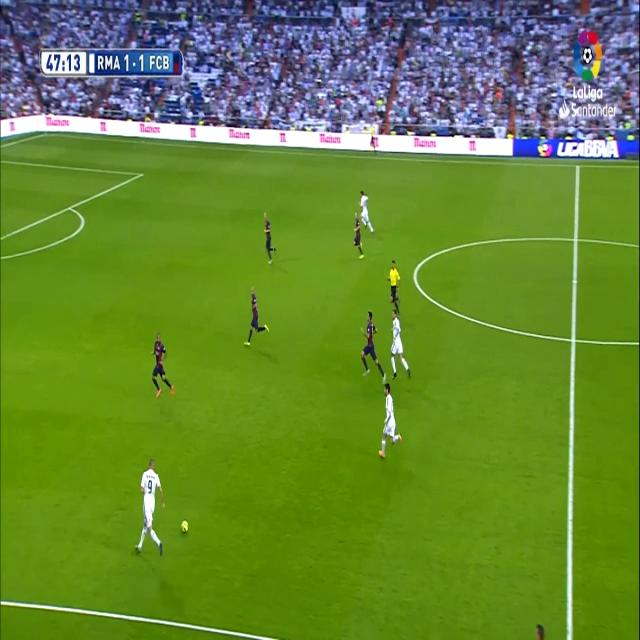bigarea_bottom_outter: (66, 198, 74, 214)
halfcircle_bottom: (566, 320, 582, 357)
halfcircle_top: (569, 222, 583, 256)
midline_top_intersection: (572, 160, 584, 175)
